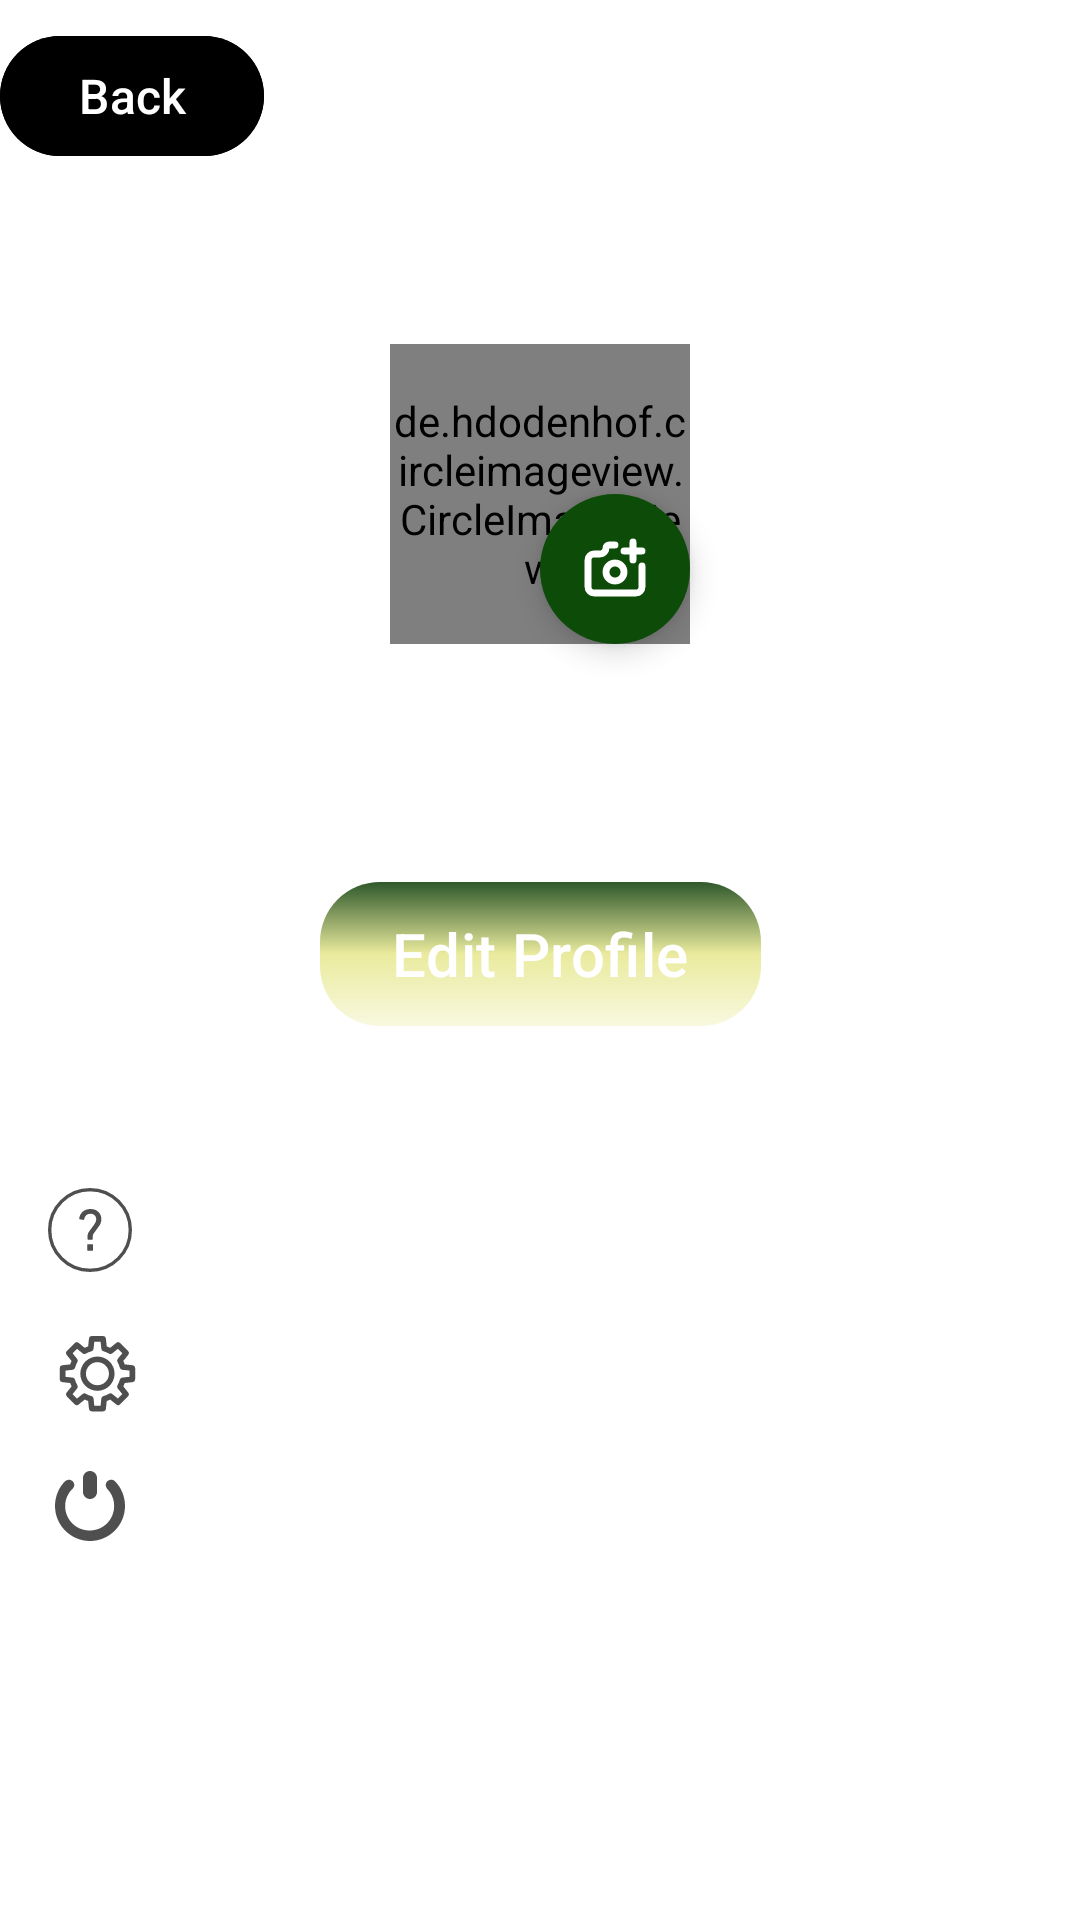

Named icons in this screenshot (1080 x 1920) and their centers, point (x, y):
add photo plus: point (615, 569)
